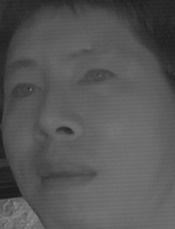eye: (75, 65, 118, 91), (8, 82, 42, 104)
mouth: (32, 158, 97, 199)
